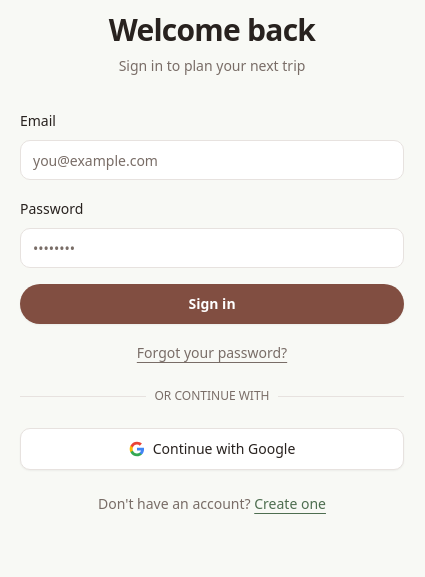
Scenario: LoginPage — Sign in mode › shows error message on failed login
Type "bad@test.com" into the field labelled "Email" at (212, 160), box [20,140,404,180]
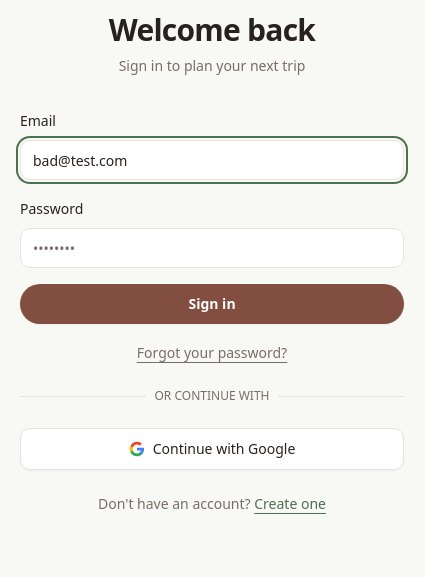
Type "wrong" into the password field labelled "Password" at (212, 248), box [20,228,404,268]
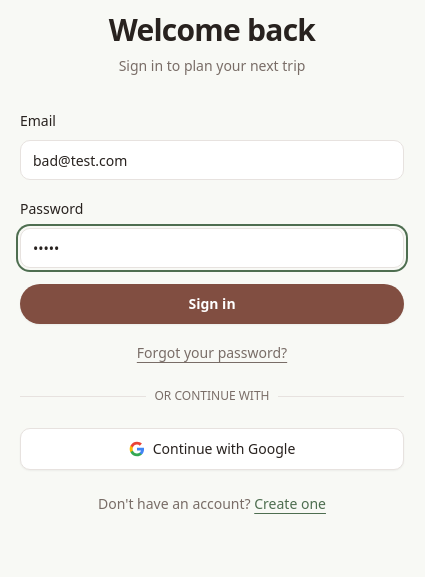
Click the button "Sign in" at (212, 304), box [20,284,404,324]
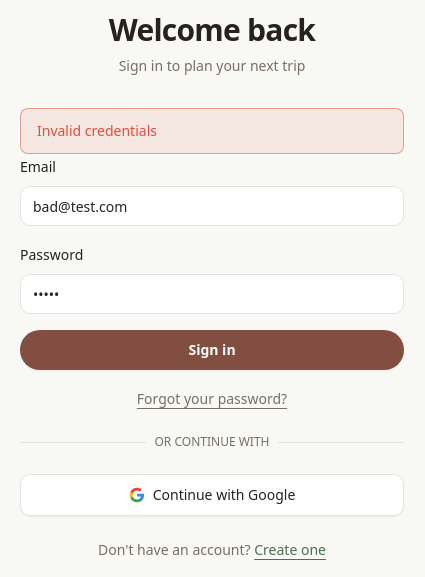
expect the text "Invalid credentials" is shown: met, box [37,121,157,140]
